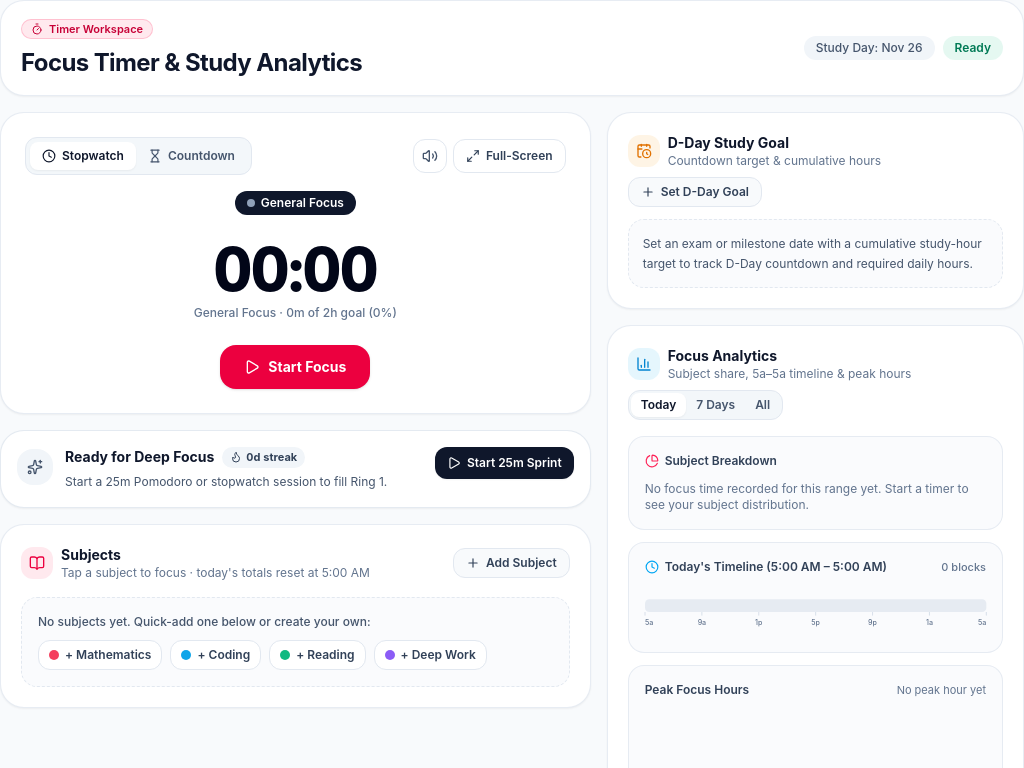
Test: TimerTab — Phase 3 Focus Timer, Subjects, D-Day, Analytics & Full-Screen › runs countdown presets and opens full-screen clock with Wake Lock status
Later steps or results of the test are not shown.
Click the button "Countdown" at x=191, y=156, box [136,142,247,170]
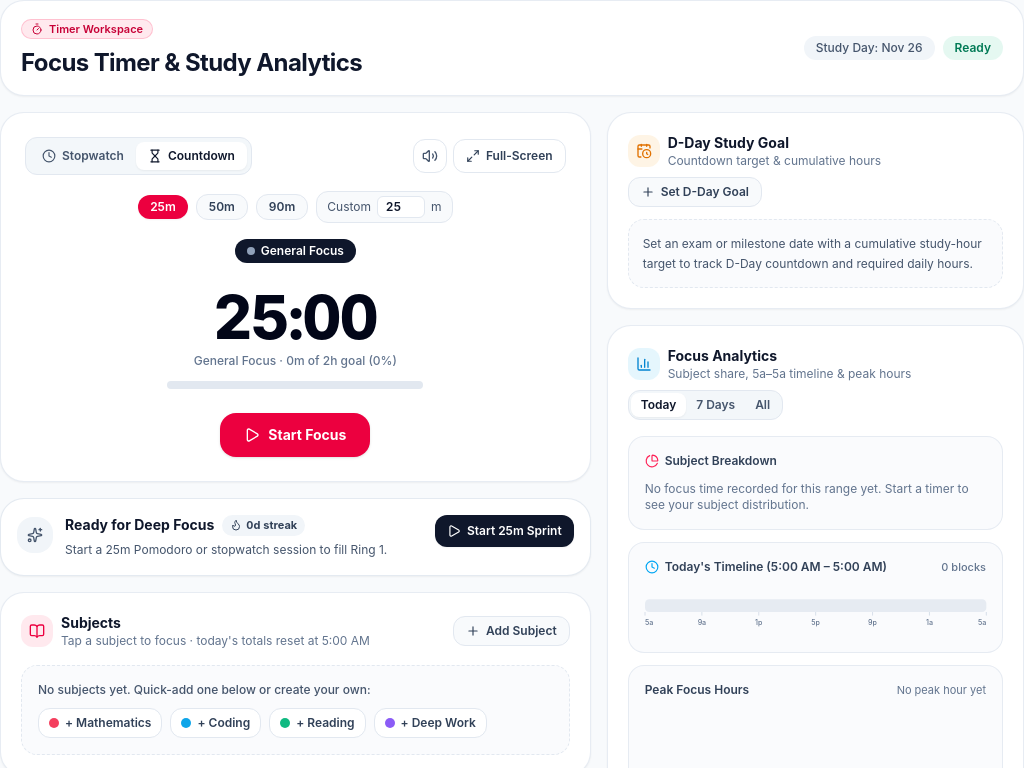
Click the button "50m" at x=222, y=207, box [196,194,248,220]
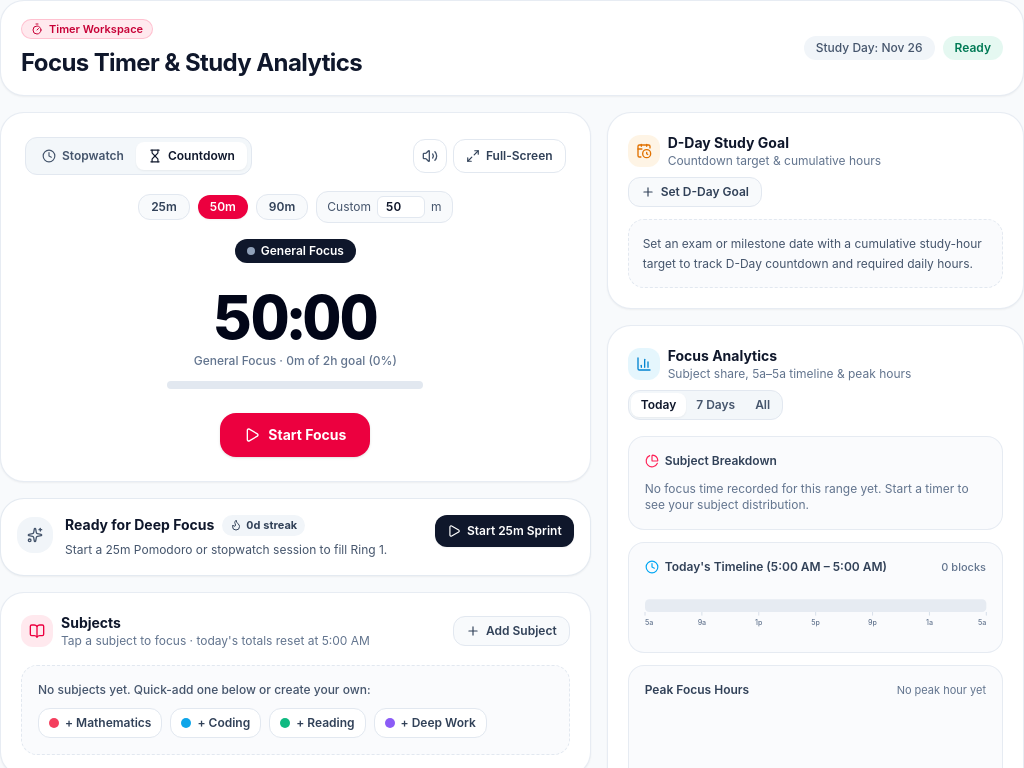
expect the text with test id "timer-clock-readout" reads "50:00": met, box [214,281,377,353]
// Open full-screen clock
Click the button with aria-label "Open full-screen focus clock" at x=509, y=156, box [453,139,566,173]
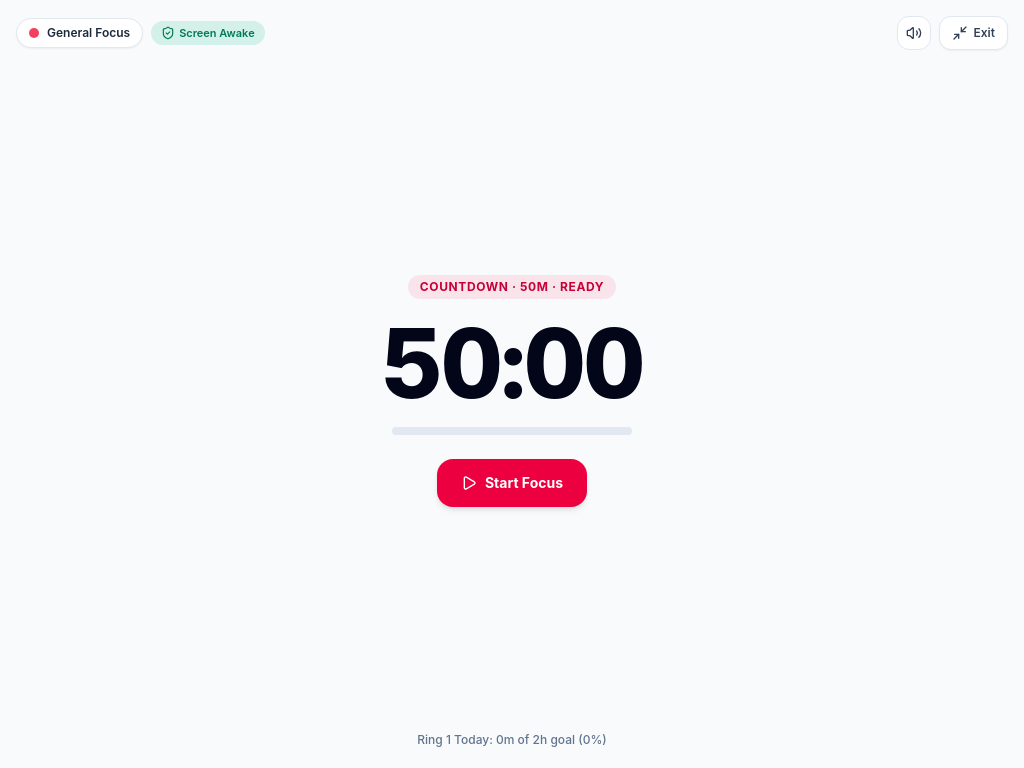
expect the dialog named "Full-screen focus clock" is shown: met
expect the element with test id "wakelock-status-badge" reads "Screen Awake": met, box [179,26,255,40]
expect the text with test id "fullscreen-clock-readout" reads "50:00": met, box [381,305,643,421]
